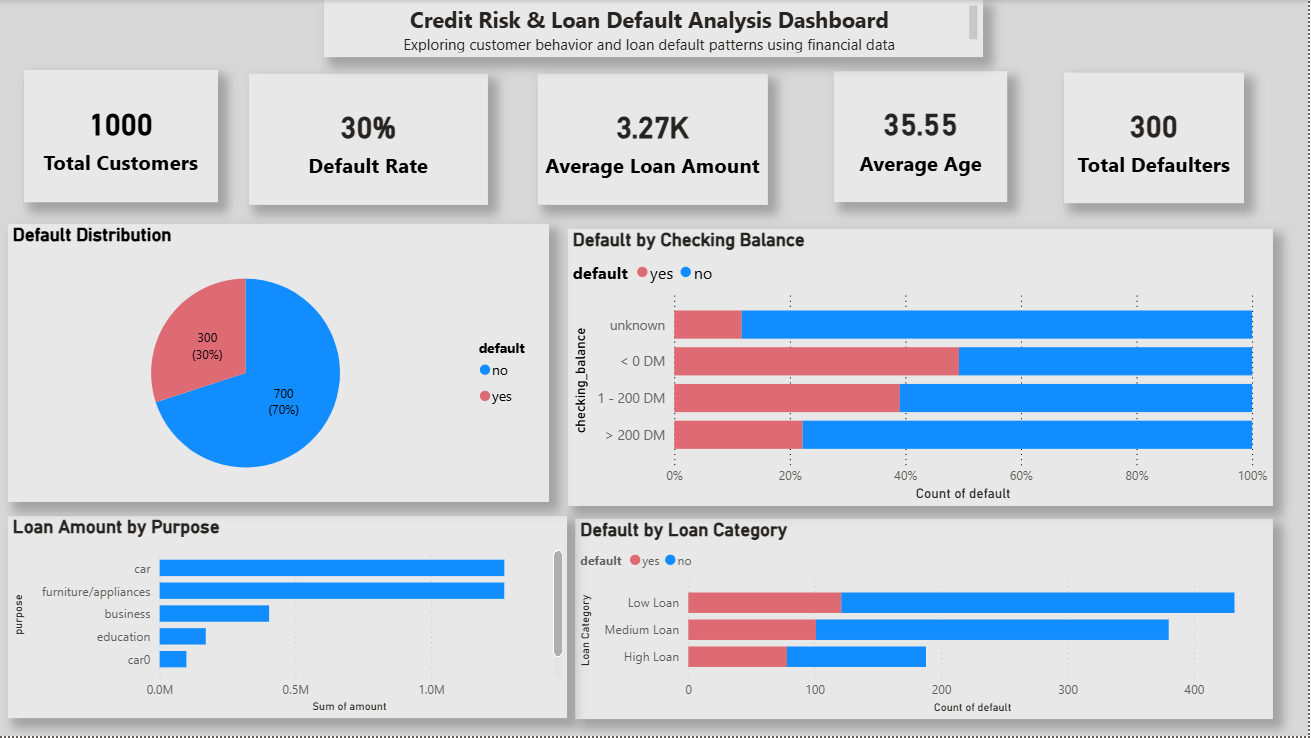

The dashboard page shown, as its layout file describes it:
{"tool":"powerbi","page":{"name":"Page 1","canvas":[1280,720],"ordinal":0},"visuals":[{"type":"card","fields":{"Values":["credit.Total Customers"]},"box":[24.5,68.5,189.5,129.6],"z":0},{"type":"card","fields":{"Values":["credit.Total Defaulters"]},"box":[1041.9,70.9,176.1,128.4],"z":1000},{"type":"card","fields":{"Values":["credit.Default Rate"]},"box":[244.6,72.1,233.6,128.4],"z":2000},{"type":"card","fields":{"Values":["credit.Average Age"]},"box":[816.9,69.7,170,128.4],"z":3000},{"type":"card","fields":{"Values":["credit.Average Loan Amount"]},"box":[527,72.1,225,128.4],"z":4000},{"type":"pieChart","title":"Default Distribution","fields":{"Category":["credit.default"],"Y":["CountNonNull(credit.default)"]},"box":[8.4,218.8,529.7,271.7],"z":5000},{"type":"barChart","title":"Loan Amount by Purpose","fields":{"Category":["credit.purpose"],"Y":["Sum(credit.amount)"]},"box":[8.4,505.6,547.5,197.6],"z":6000},{"type":"hundredPercentStackedBarChart","title":"Default by Checking Balance","fields":{"Category":["credit.checking_balance"],"Y":["CountNonNull(credit.default)"],"Series":["credit.default"]},"box":[556.4,223.8,689.7,271.5],"z":7000},{"type":"barChart","title":"Default by Loan Category","fields":{"Category":["credit.Loan Category"],"Y":["CountNonNull(credit.default)"],"Series":["credit.default"]},"box":[563.7,507.5,682.3,195.7],"z":8000},{"type":"textbox","box":[317.9,0,644.4,56.3],"z":9000}]}

Visuals, with their boxes in screenshot pixels (x1, y1, x2, y2), scaled from the page's 1280x720 canvas onto the 1311x738 screenshot:
card - credit.Total Customers: {"x1": 25, "y1": 70, "x2": 219, "y2": 203}
card - credit.Total Defaulters: {"x1": 1067, "y1": 73, "x2": 1247, "y2": 204}
card - credit.Default Rate: {"x1": 251, "y1": 74, "x2": 490, "y2": 206}
card - credit.Average Age: {"x1": 837, "y1": 71, "x2": 1011, "y2": 203}
card - credit.Average Loan Amount: {"x1": 540, "y1": 74, "x2": 770, "y2": 206}
"Default Distribution" pieChart: {"x1": 9, "y1": 224, "x2": 551, "y2": 503}
"Loan Amount by Purpose" barChart: {"x1": 9, "y1": 518, "x2": 569, "y2": 721}
"Default by Checking Balance" hundredPercentStackedBarChart: {"x1": 570, "y1": 229, "x2": 1276, "y2": 508}
"Default by Loan Category" barChart: {"x1": 577, "y1": 520, "x2": 1276, "y2": 721}
textbox: {"x1": 326, "y1": 0, "x2": 986, "y2": 58}
